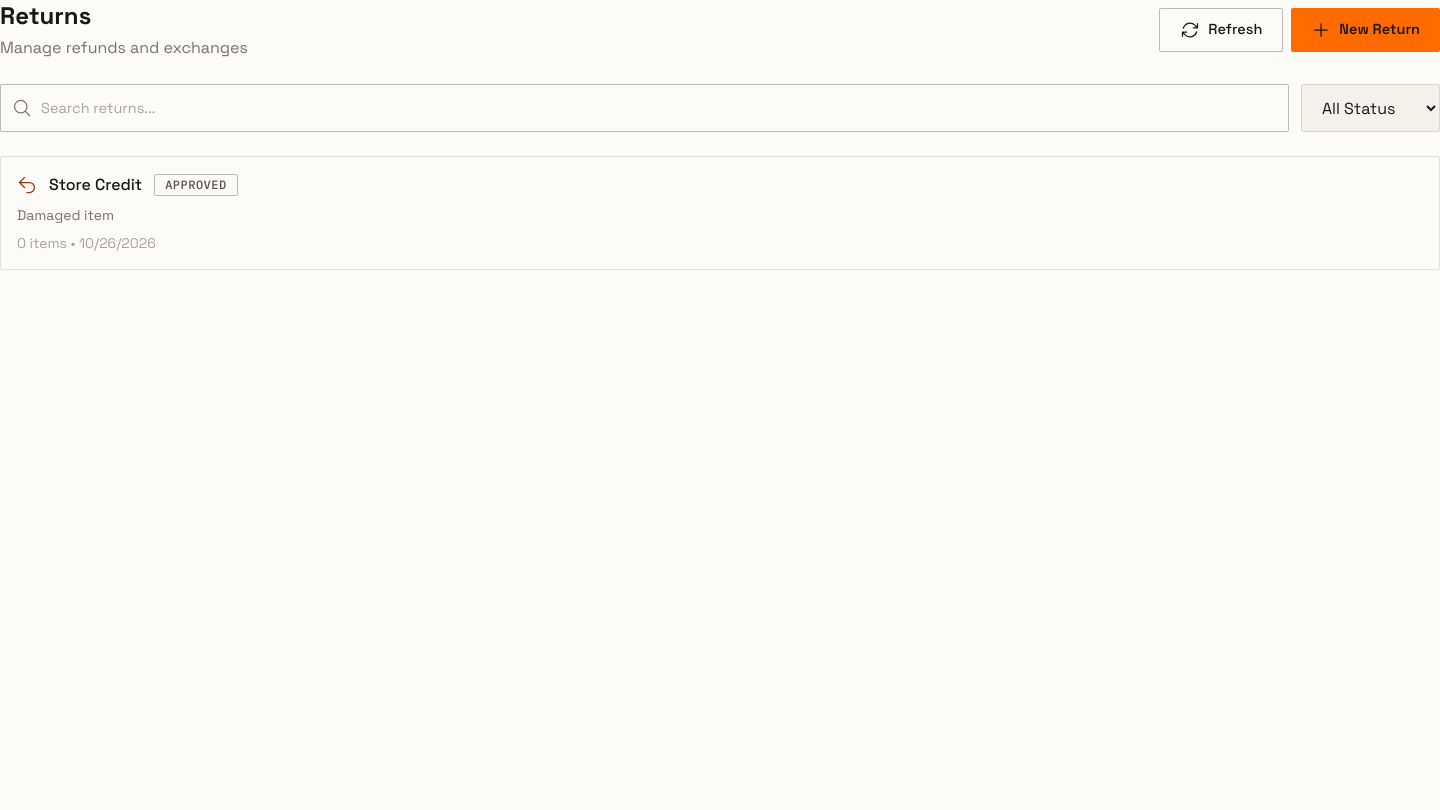
Scenario: paid-sale store-credit completion › confirms paid-sale account credit only after the ledger entry is returned
Click the text "Damaged item".
click(66, 215)  # box x1=17 y1=206 x2=114 y2=224
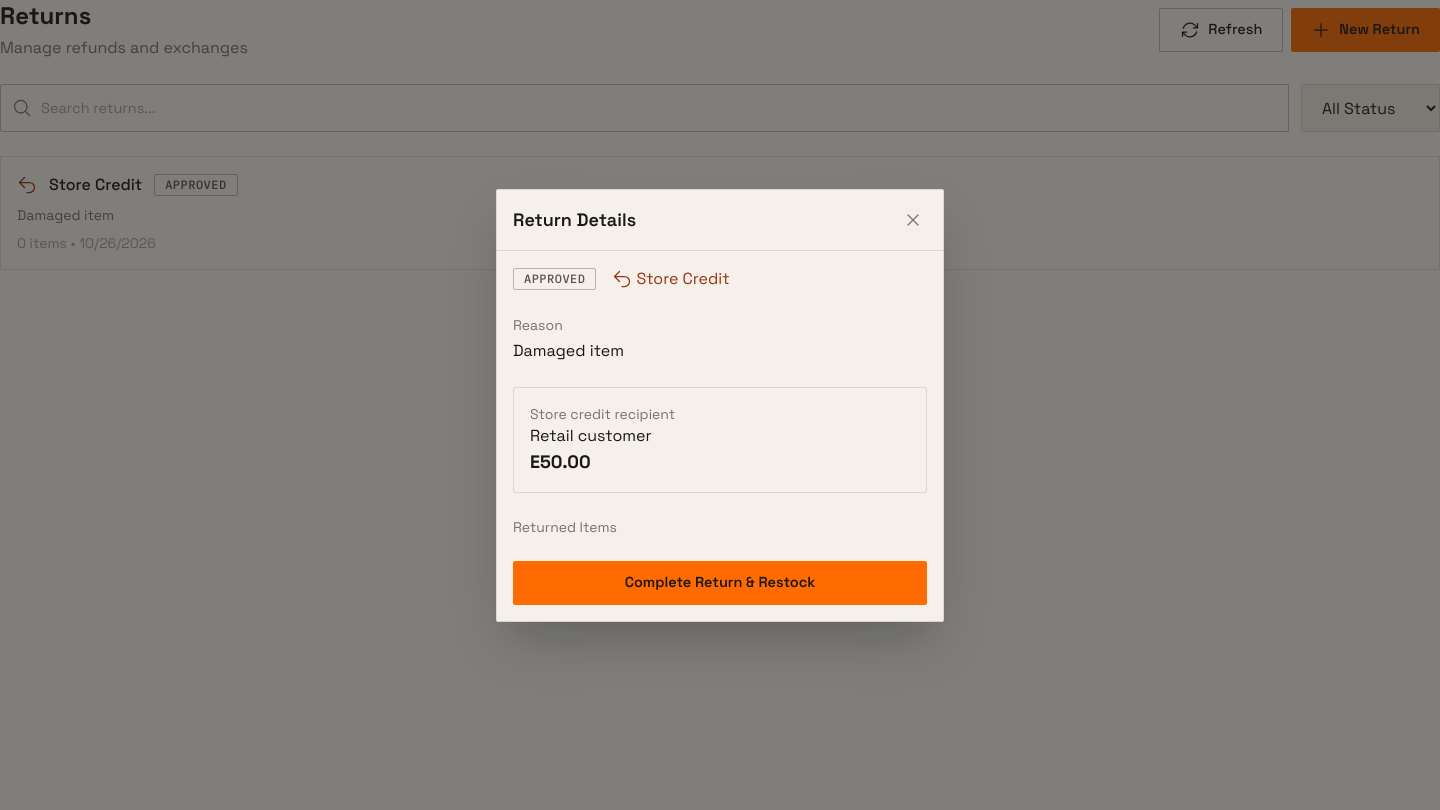
Click the button "Complete Return & Restock".
click(720, 582)  # box x1=513 y1=560 x2=927 y2=604
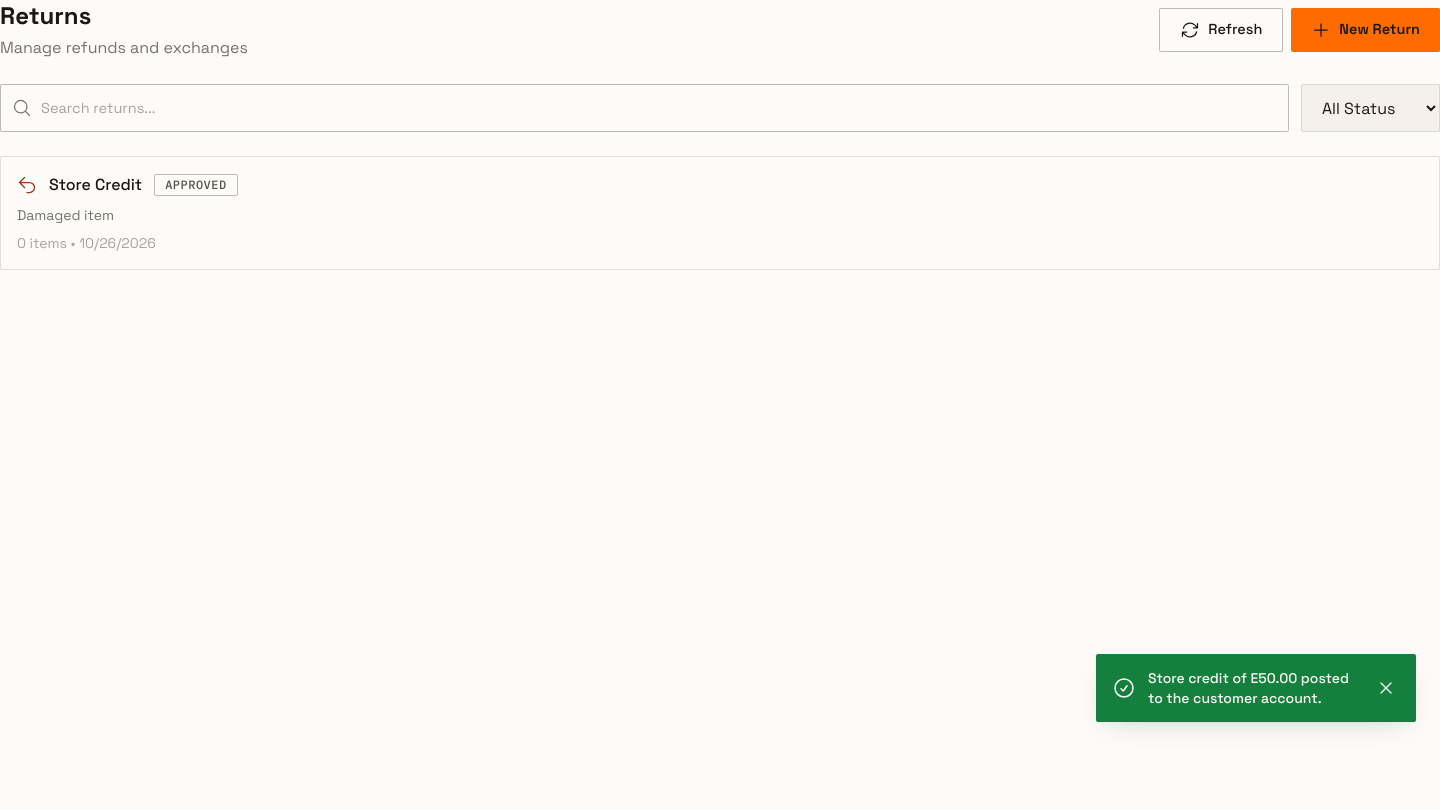
Expected: the text "Store credit of E50.00 posted to the customer account." is shown, x1=1148 y1=668 x2=1360 y2=708
